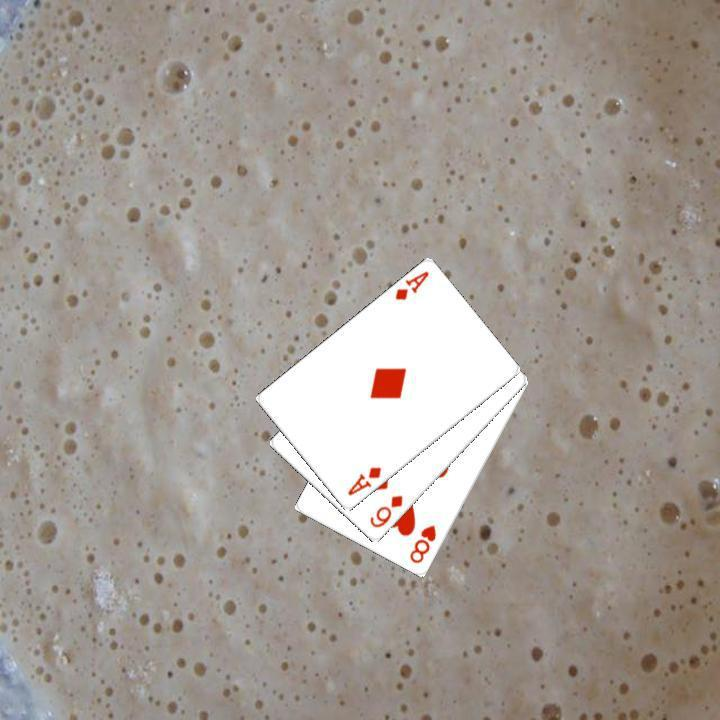6: (365, 491, 405, 530)
8: (405, 521, 438, 566)
A: (391, 267, 431, 303), (343, 463, 383, 498)
